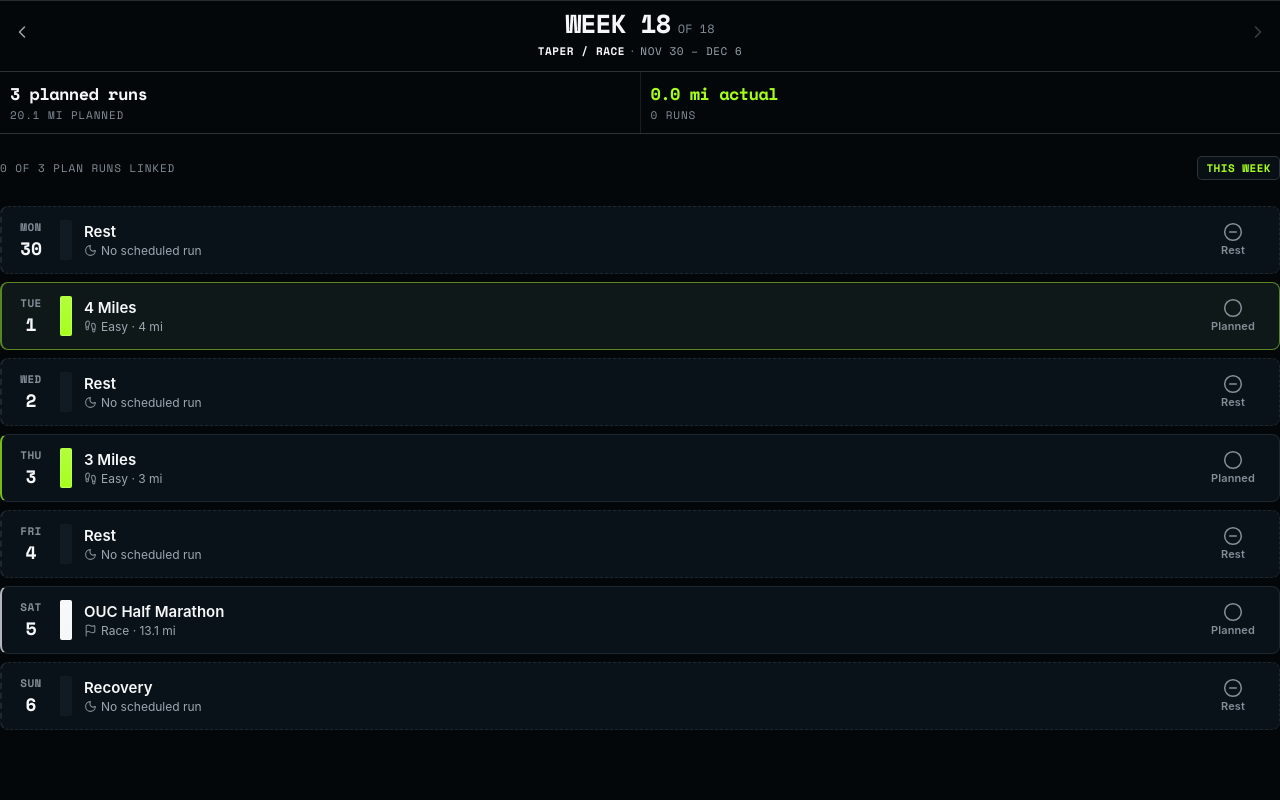
race day › cannot be displaced by moving another workout onto it
Click the button with aria-label "Tuesday, December 1": (110, 307) [2,283,1279,349]
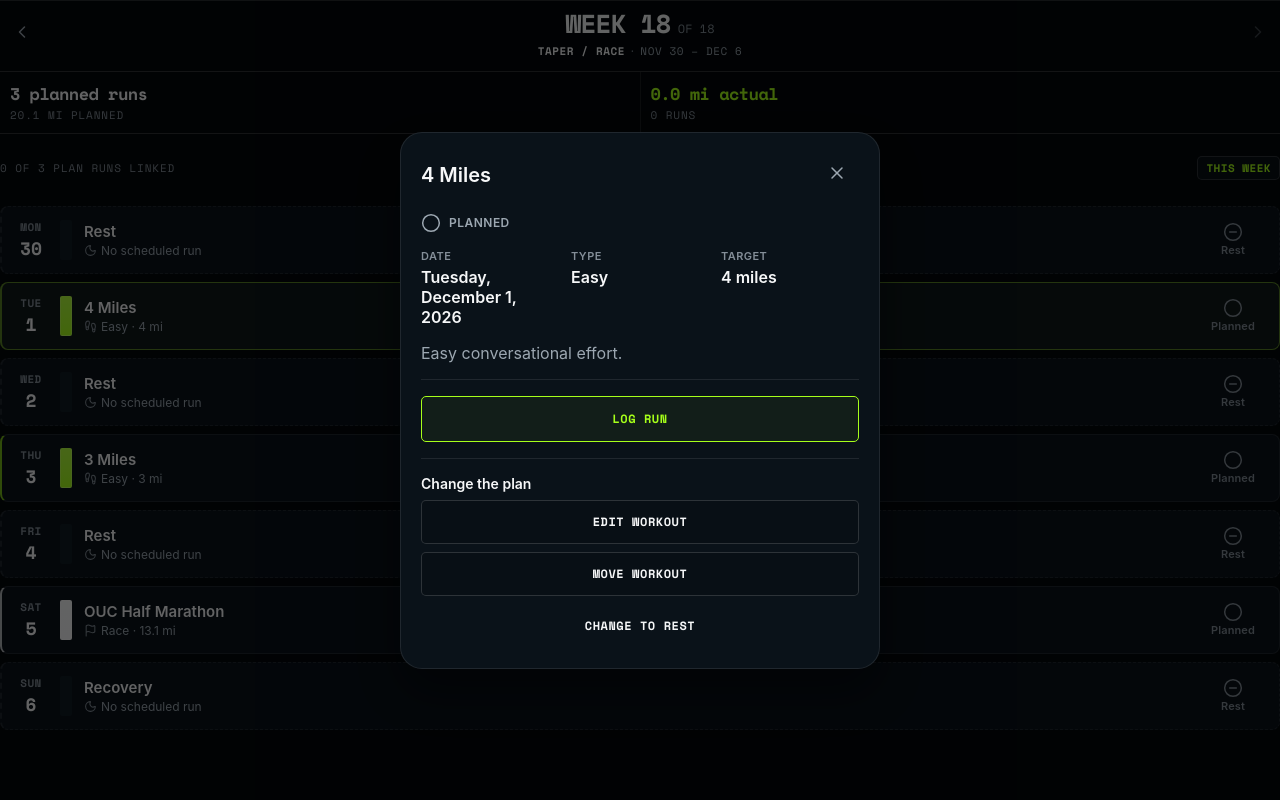
Click the button "Move Workout": (640, 574) [421,552,859,596]
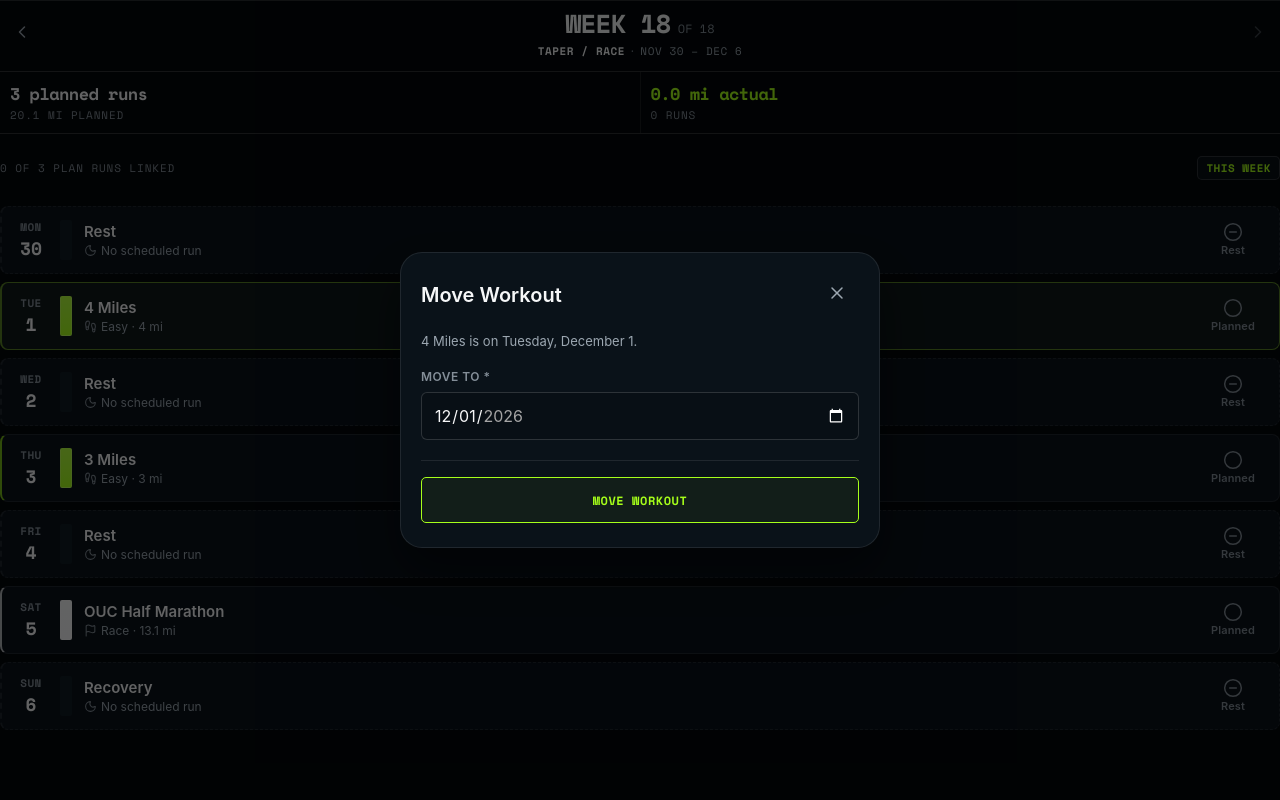
In the date field labelled "Move to *": (640, 416) [421,392,859,440], type "2026-12-05"
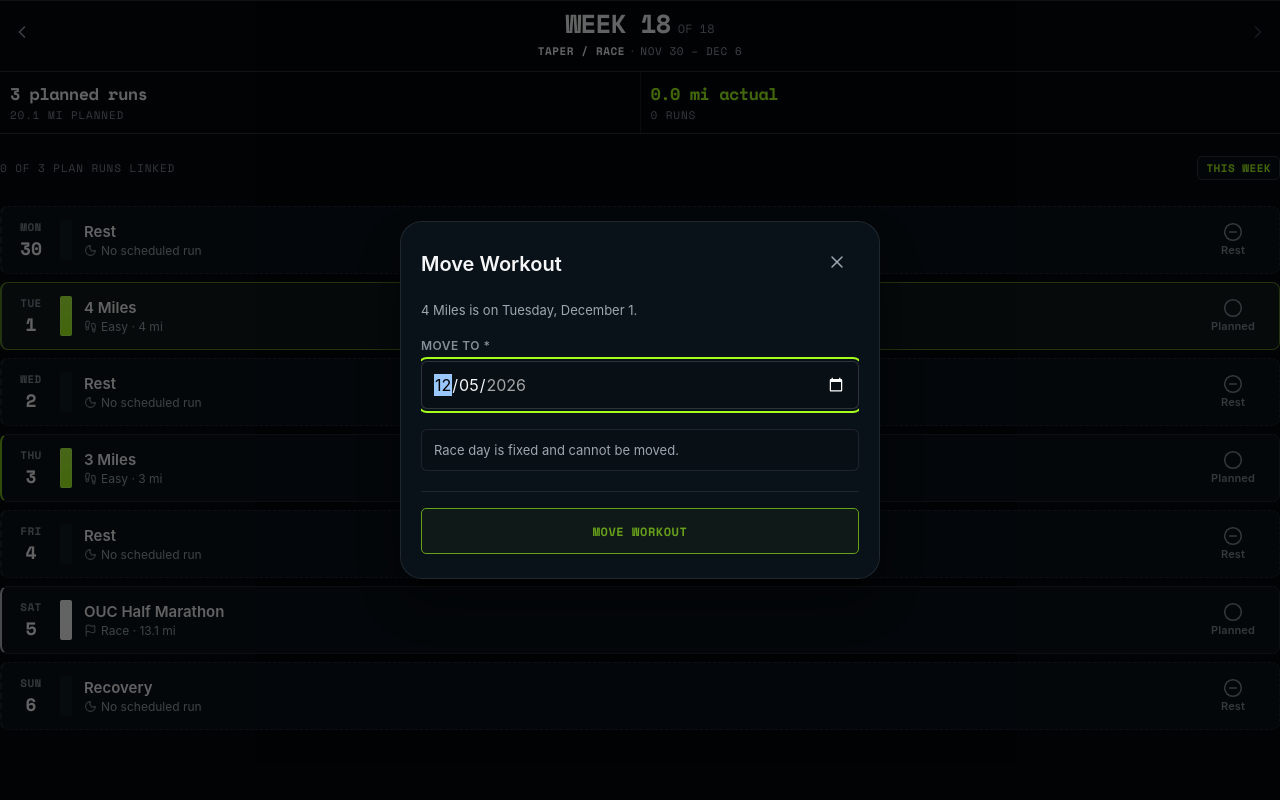
Check: the text "Race day is fixed and cannot be moved." is shown, box [434,442,679,458]
Check: the button "Move Workout" is disabled, box [421,508,859,554]
